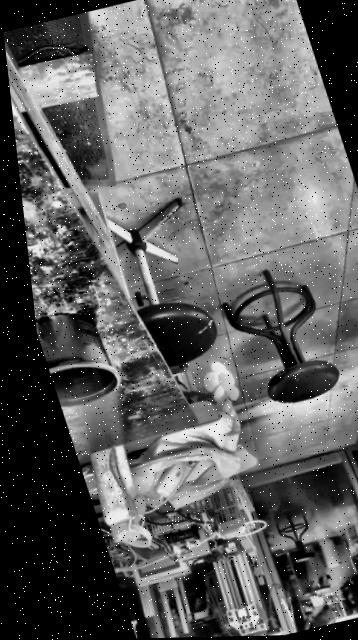pot: (34, 304, 125, 410)
